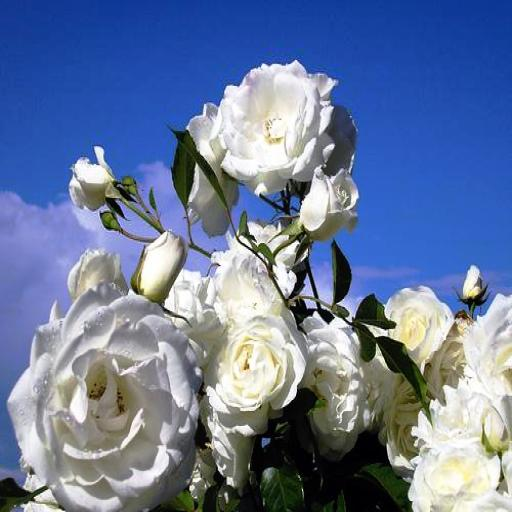rose: (9, 281, 203, 512), (187, 53, 331, 194), (200, 302, 304, 426), (383, 284, 448, 362), (301, 166, 358, 235)
